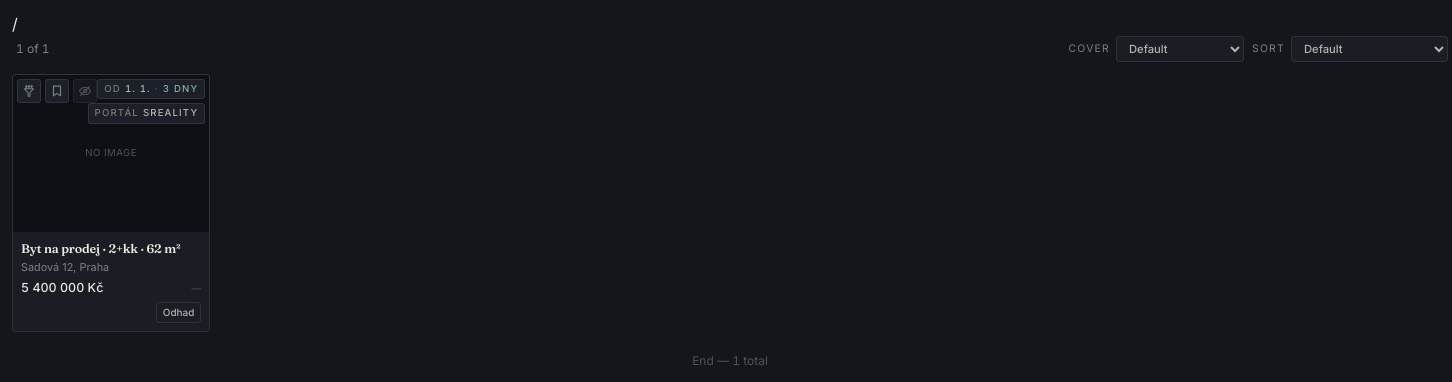
Scenario: <ListingCards> the card is not a link — its TITLE is › navigates to the property page on a plain click of the title link
Click the link "Byt na prodej · 2+kk · 62 m²" at {"x": 101, "y": 248}, box top-left (21, 241), bottom-right (180, 256)
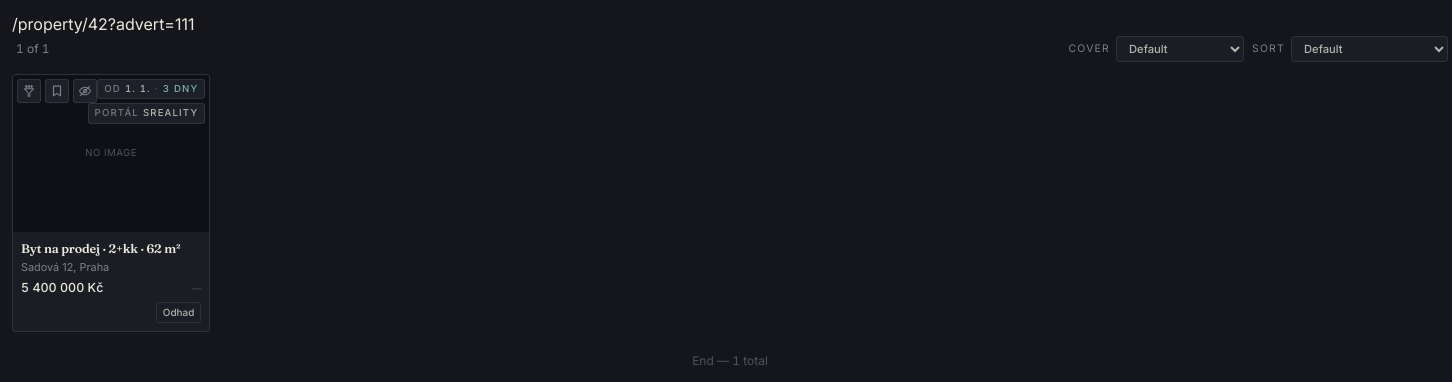
Expected: the text with test id "loc" reads "/property/42?advert=111", top-left (12, 14), bottom-right (194, 34)
